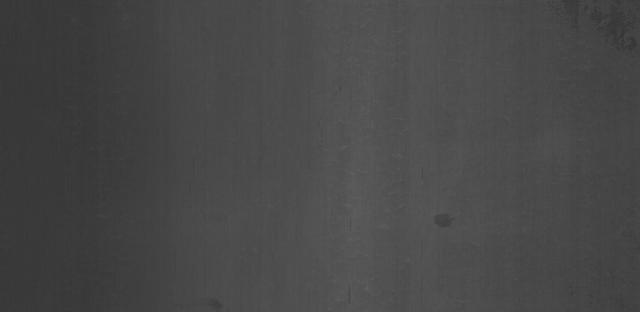water_spot: (423, 205, 459, 234)
